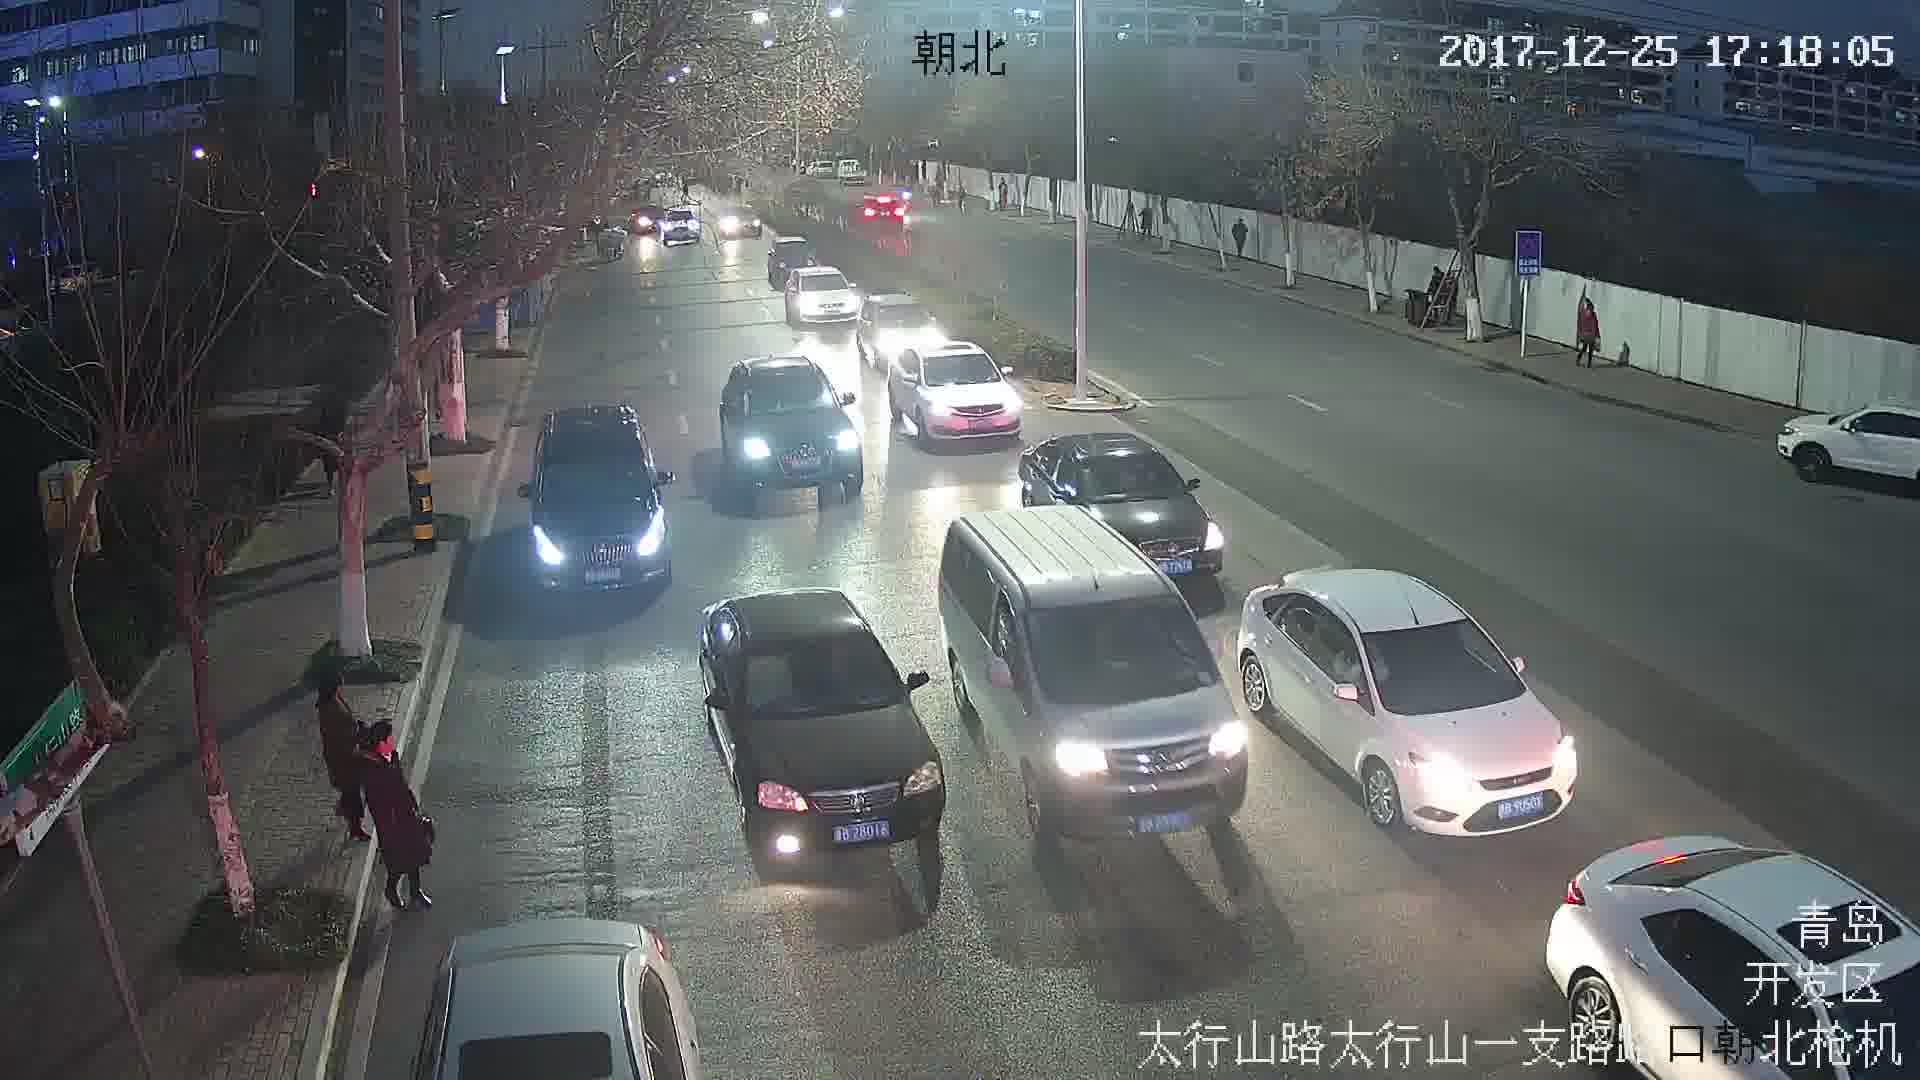car: (942, 513, 1249, 830), (1238, 571, 1580, 835), (705, 591, 942, 852), (531, 407, 678, 609), (716, 360, 860, 494), (892, 345, 1021, 444)
person: (364, 724, 438, 906), (313, 677, 364, 839), (1581, 298, 1602, 366)
